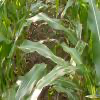Corn leaf blight: (29, 61, 87, 99), (17, 12, 81, 45), (9, 38, 68, 65), (18, 63, 49, 99)
